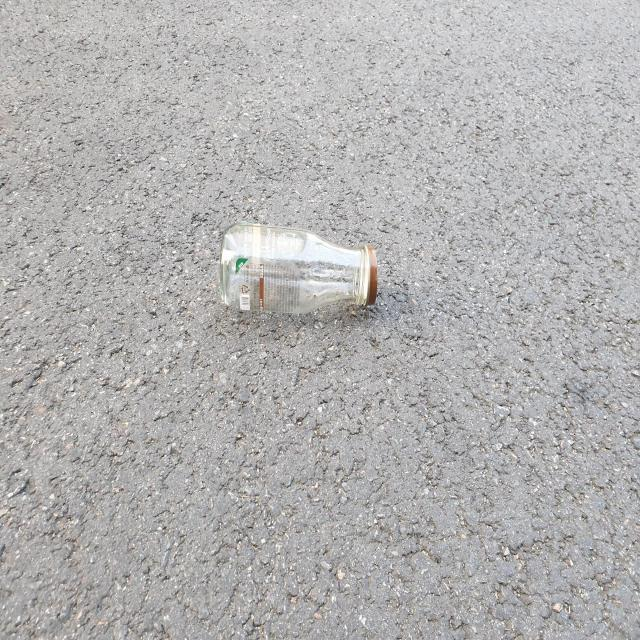glass: (220, 223, 377, 313)
